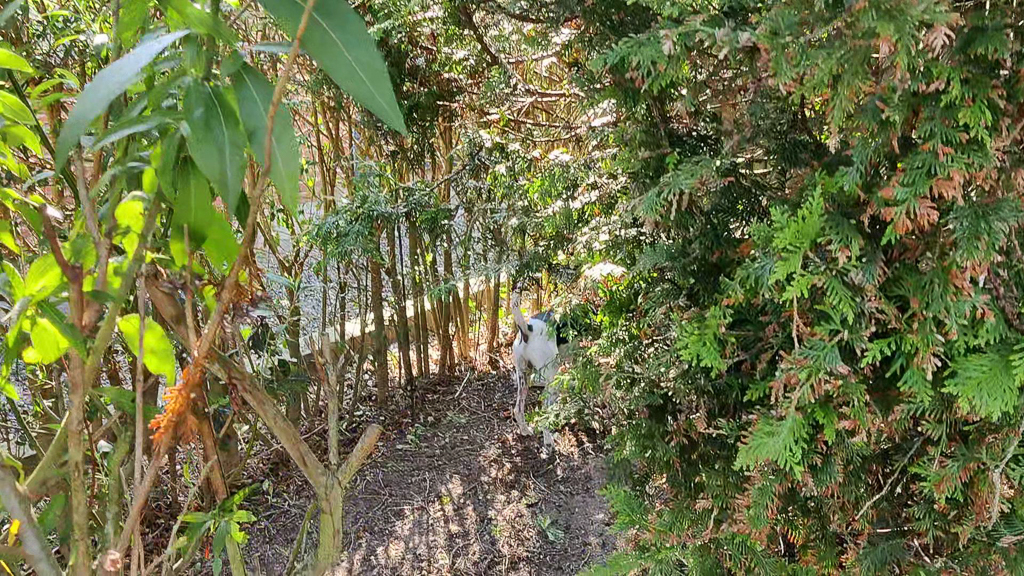Dog: (490, 256, 598, 465)
